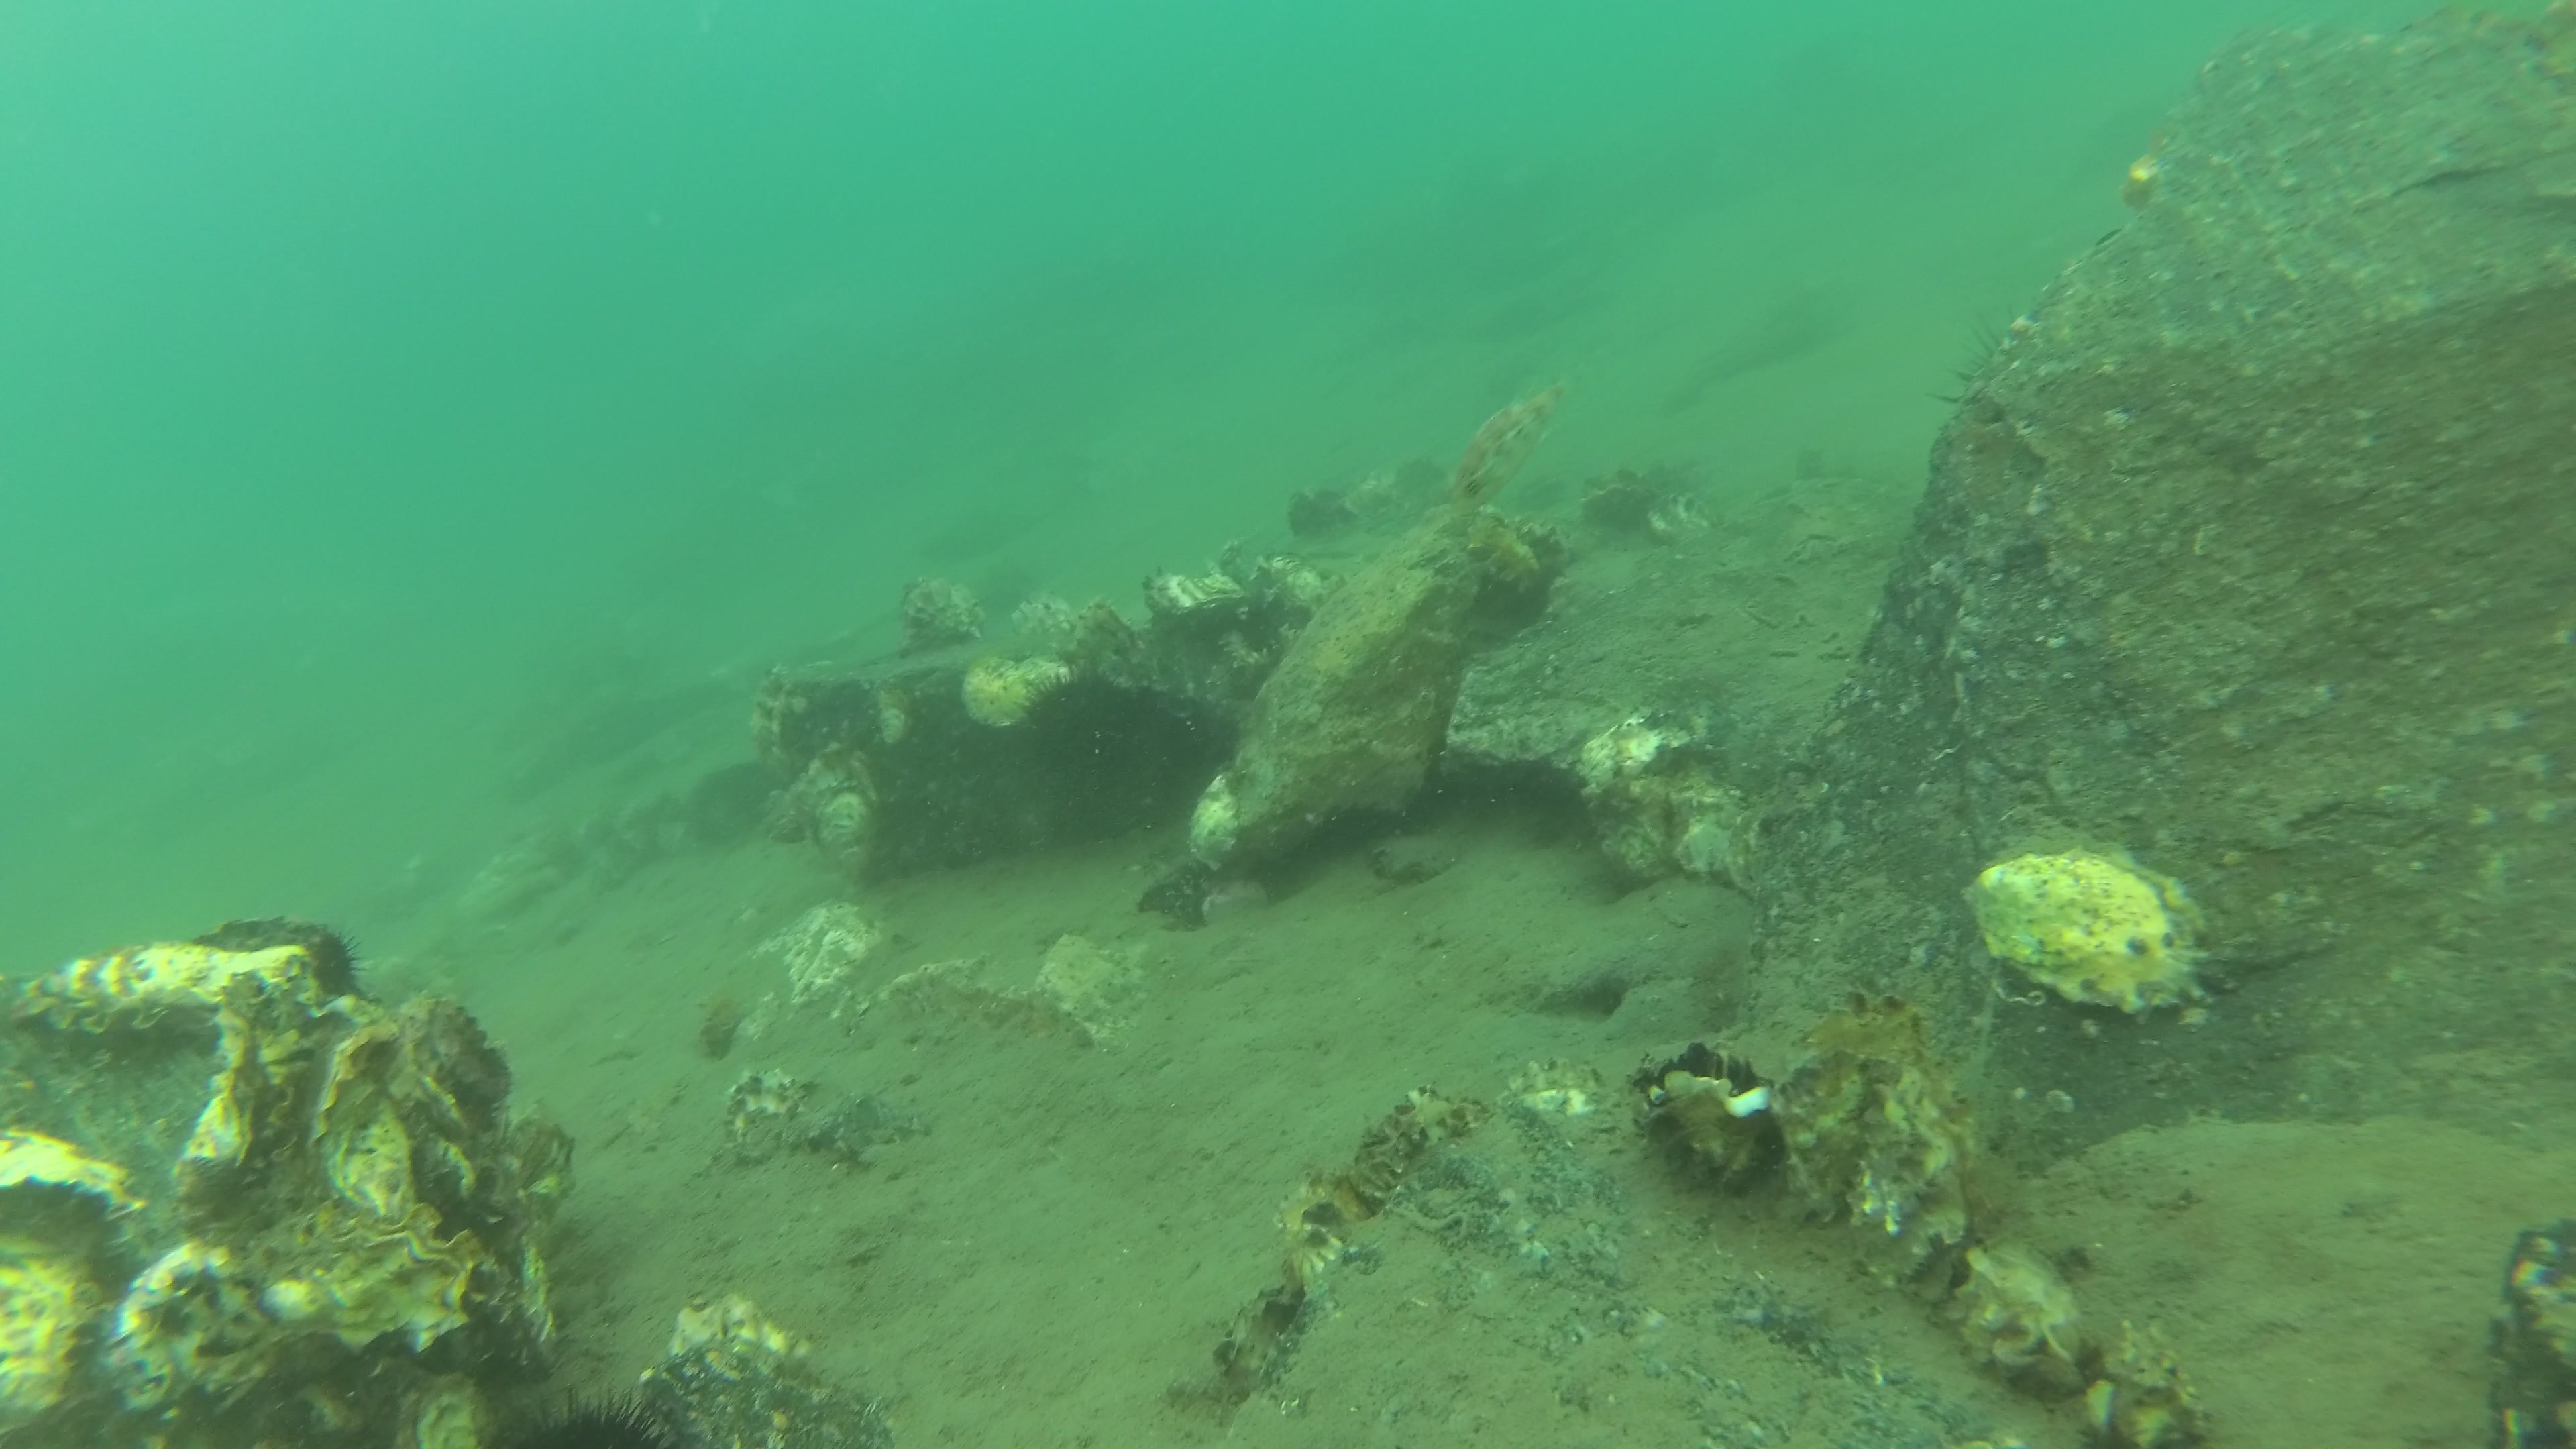echinus: (1016, 660, 1145, 766), (502, 1385, 679, 1449), (311, 927, 368, 996)
